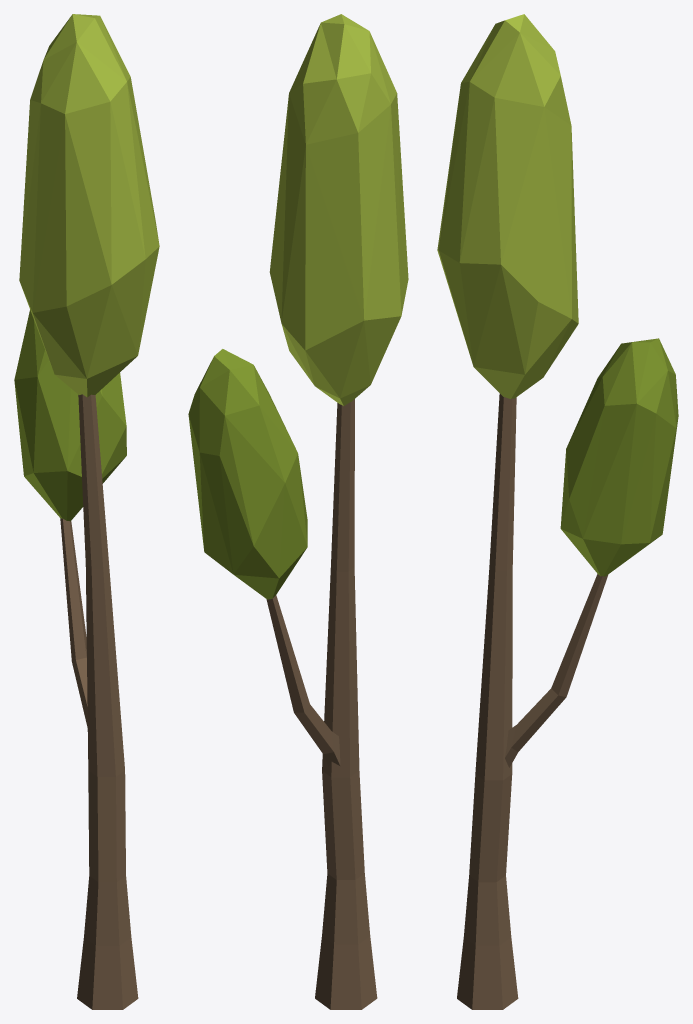
The model's file is LPW_Tree_C1_9m_01.fbx.
3 renders of one model, left to right at view 1: azimuth 30°, elevation 25°; view 2: azimuth 150°, elevation 25°; view 3: azimuth 270°, elevation 25°, orthographic.
Parts seen in each view (by area): view 1: LPW_Tree_C1_9m_01; view 2: LPW_Tree_C1_9m_01; view 3: LPW_Tree_C1_9m_01.
Boxes of the visible parts, x1=… form: LPW_Tree_C1_9m_01: x1=14, y1=14, x2=159, y2=1009; LPW_Tree_C1_9m_01: x1=188, y1=14, x2=408, y2=1009; LPW_Tree_C1_9m_01: x1=437, y1=14, x2=678, y2=1009.
Bounding box in the file's own units: 1.36 × 9.09 × 2.03.
